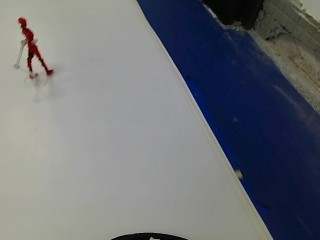pedestrian: (15, 13, 57, 78)
